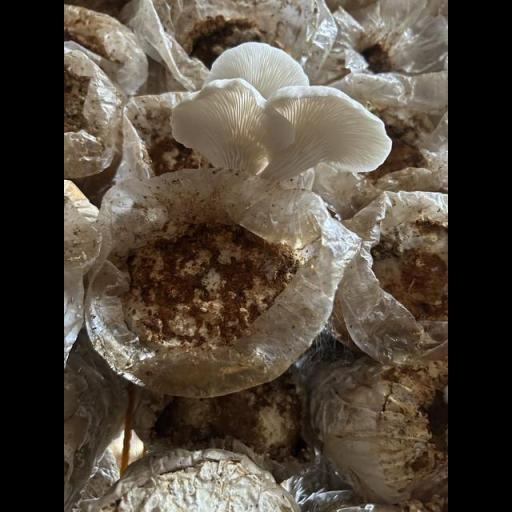White Oyster Mushroom: (172, 31, 396, 202)
